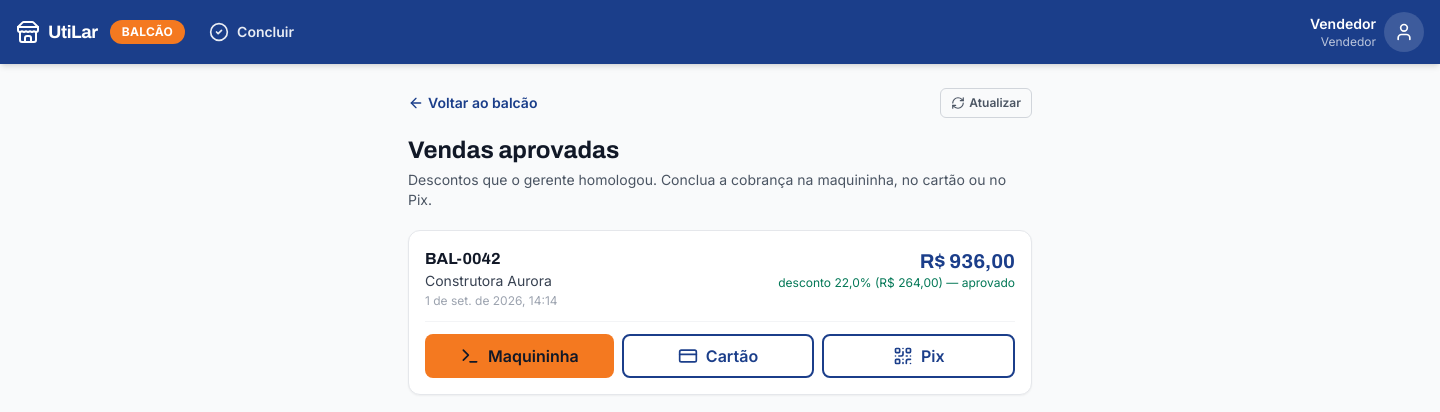
it: BalcaoCompletionPage — conclui venda aprovada › pix: gera o QR e confirma
This screenshot has width=1440, height=412.
Expected: the text "BAL-0042" is shown, [425, 250, 501, 267]
// Escolhe Pix → mostra o QR / instrução.
Click the button "Pix": [919, 356] box [822, 334, 1015, 378]
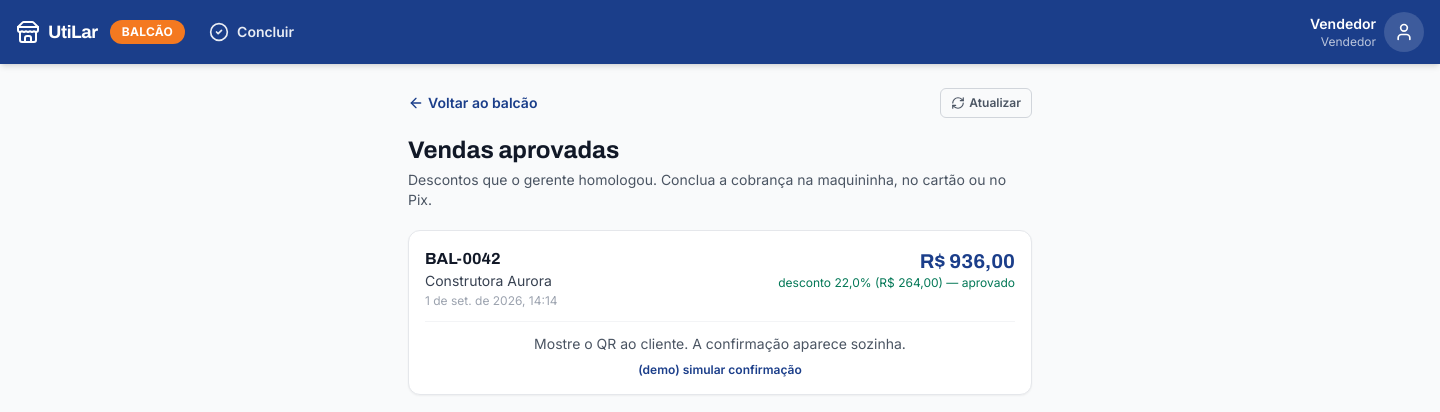
Expected: the text "Mostre o QR ao cliente. A confirmação aparece sozinha." is shown, [534, 334, 906, 354]
Click the button "(demo) simular confirmação": [720, 370] box [638, 362, 802, 378]
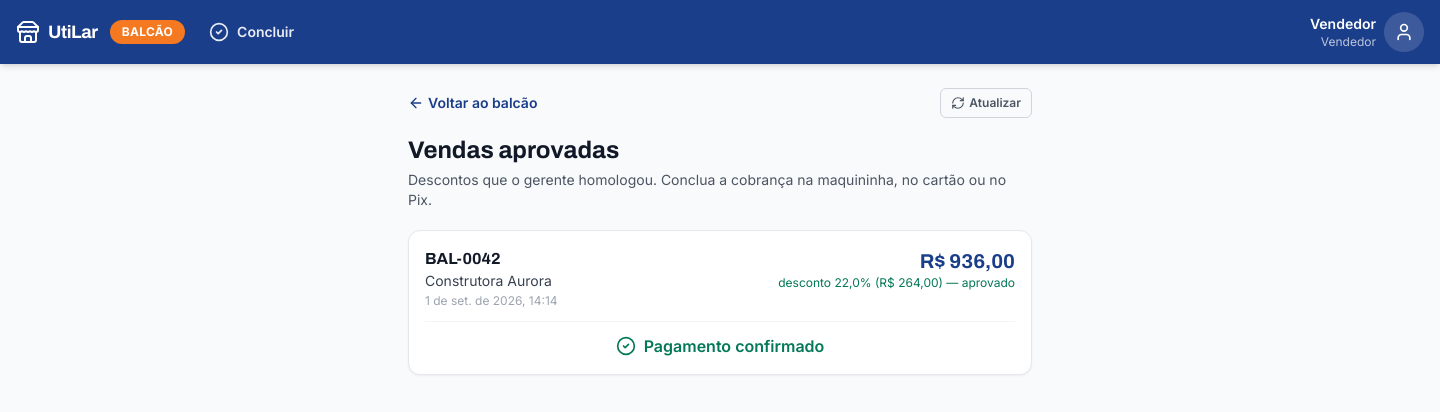
Expected: the text "Pagamento confirmado" is shown, [616, 334, 824, 358]
